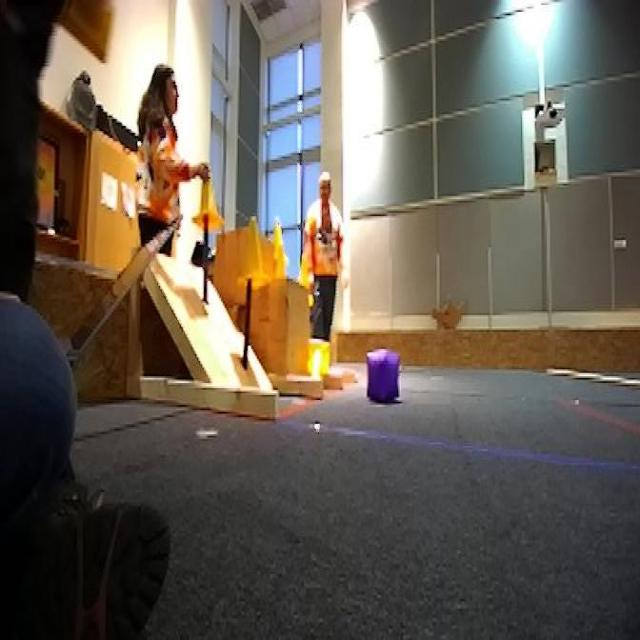frc_cone: (56, 0, 111, 63), (238, 216, 270, 295), (193, 163, 227, 235), (306, 339, 331, 383), (270, 216, 290, 267), (273, 244, 287, 278)
frc_cube: (366, 349, 402, 410)
